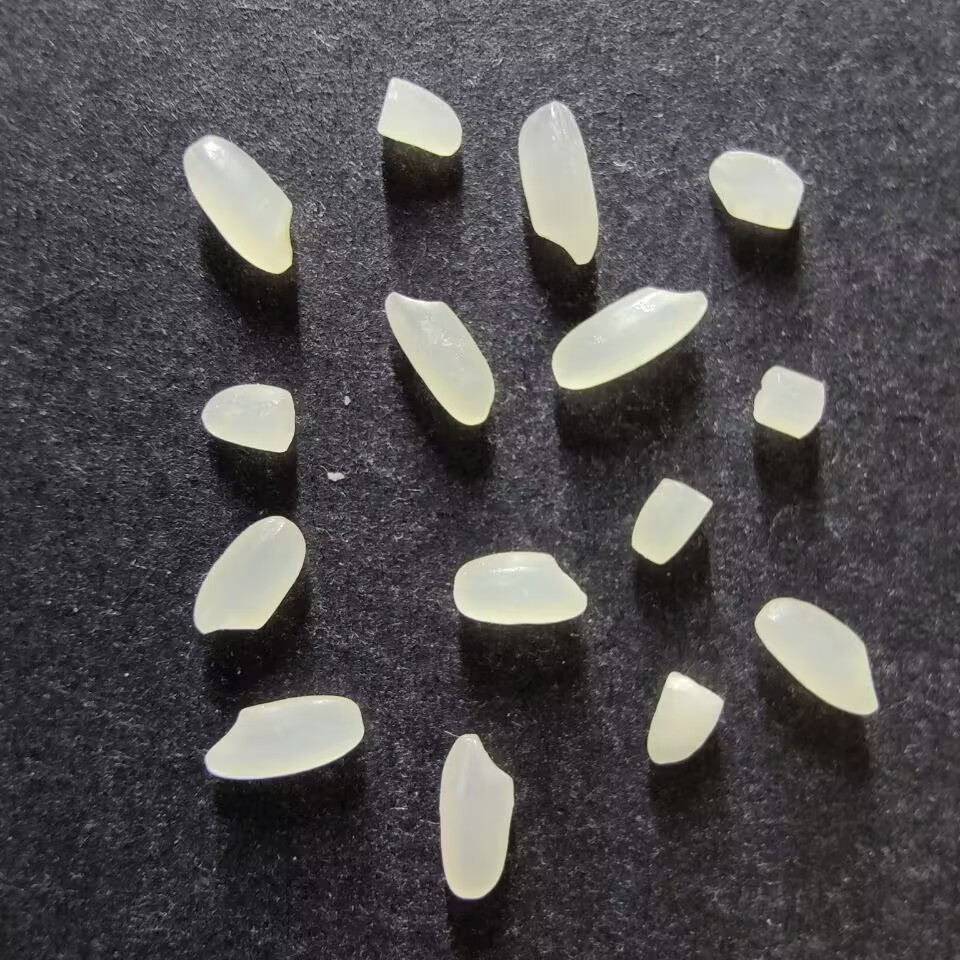broken: (708, 150, 803, 230), (644, 670, 724, 764), (629, 477, 713, 564), (376, 77, 460, 156), (200, 383, 295, 452), (751, 366, 826, 438)
rice: (550, 285, 706, 389), (182, 135, 294, 275), (753, 596, 879, 717), (383, 291, 494, 425), (204, 694, 364, 780), (516, 100, 599, 265), (192, 515, 305, 634), (437, 733, 512, 899), (452, 551, 588, 625)
